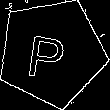P_N: (29, 25, 74, 80)
